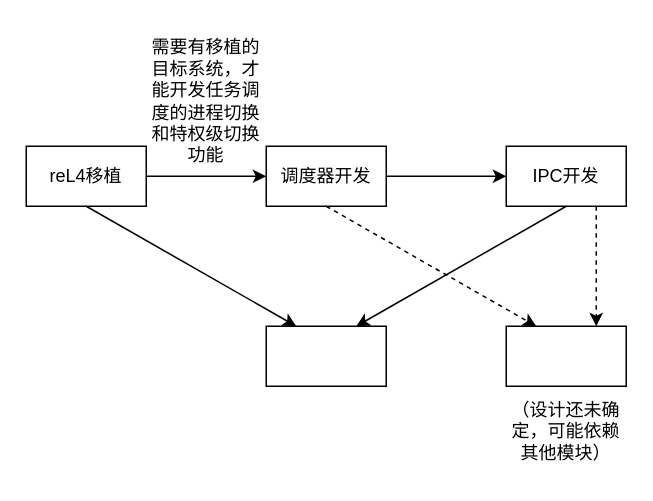
Image size: 653x501. Some labels were removed from this diagram. Each missing label, with the centre of its shape:
"异步设备驱动" goes at (x=565, y=355).
"用户态内核 IO路径优化" goes at (x=325, y=355).
